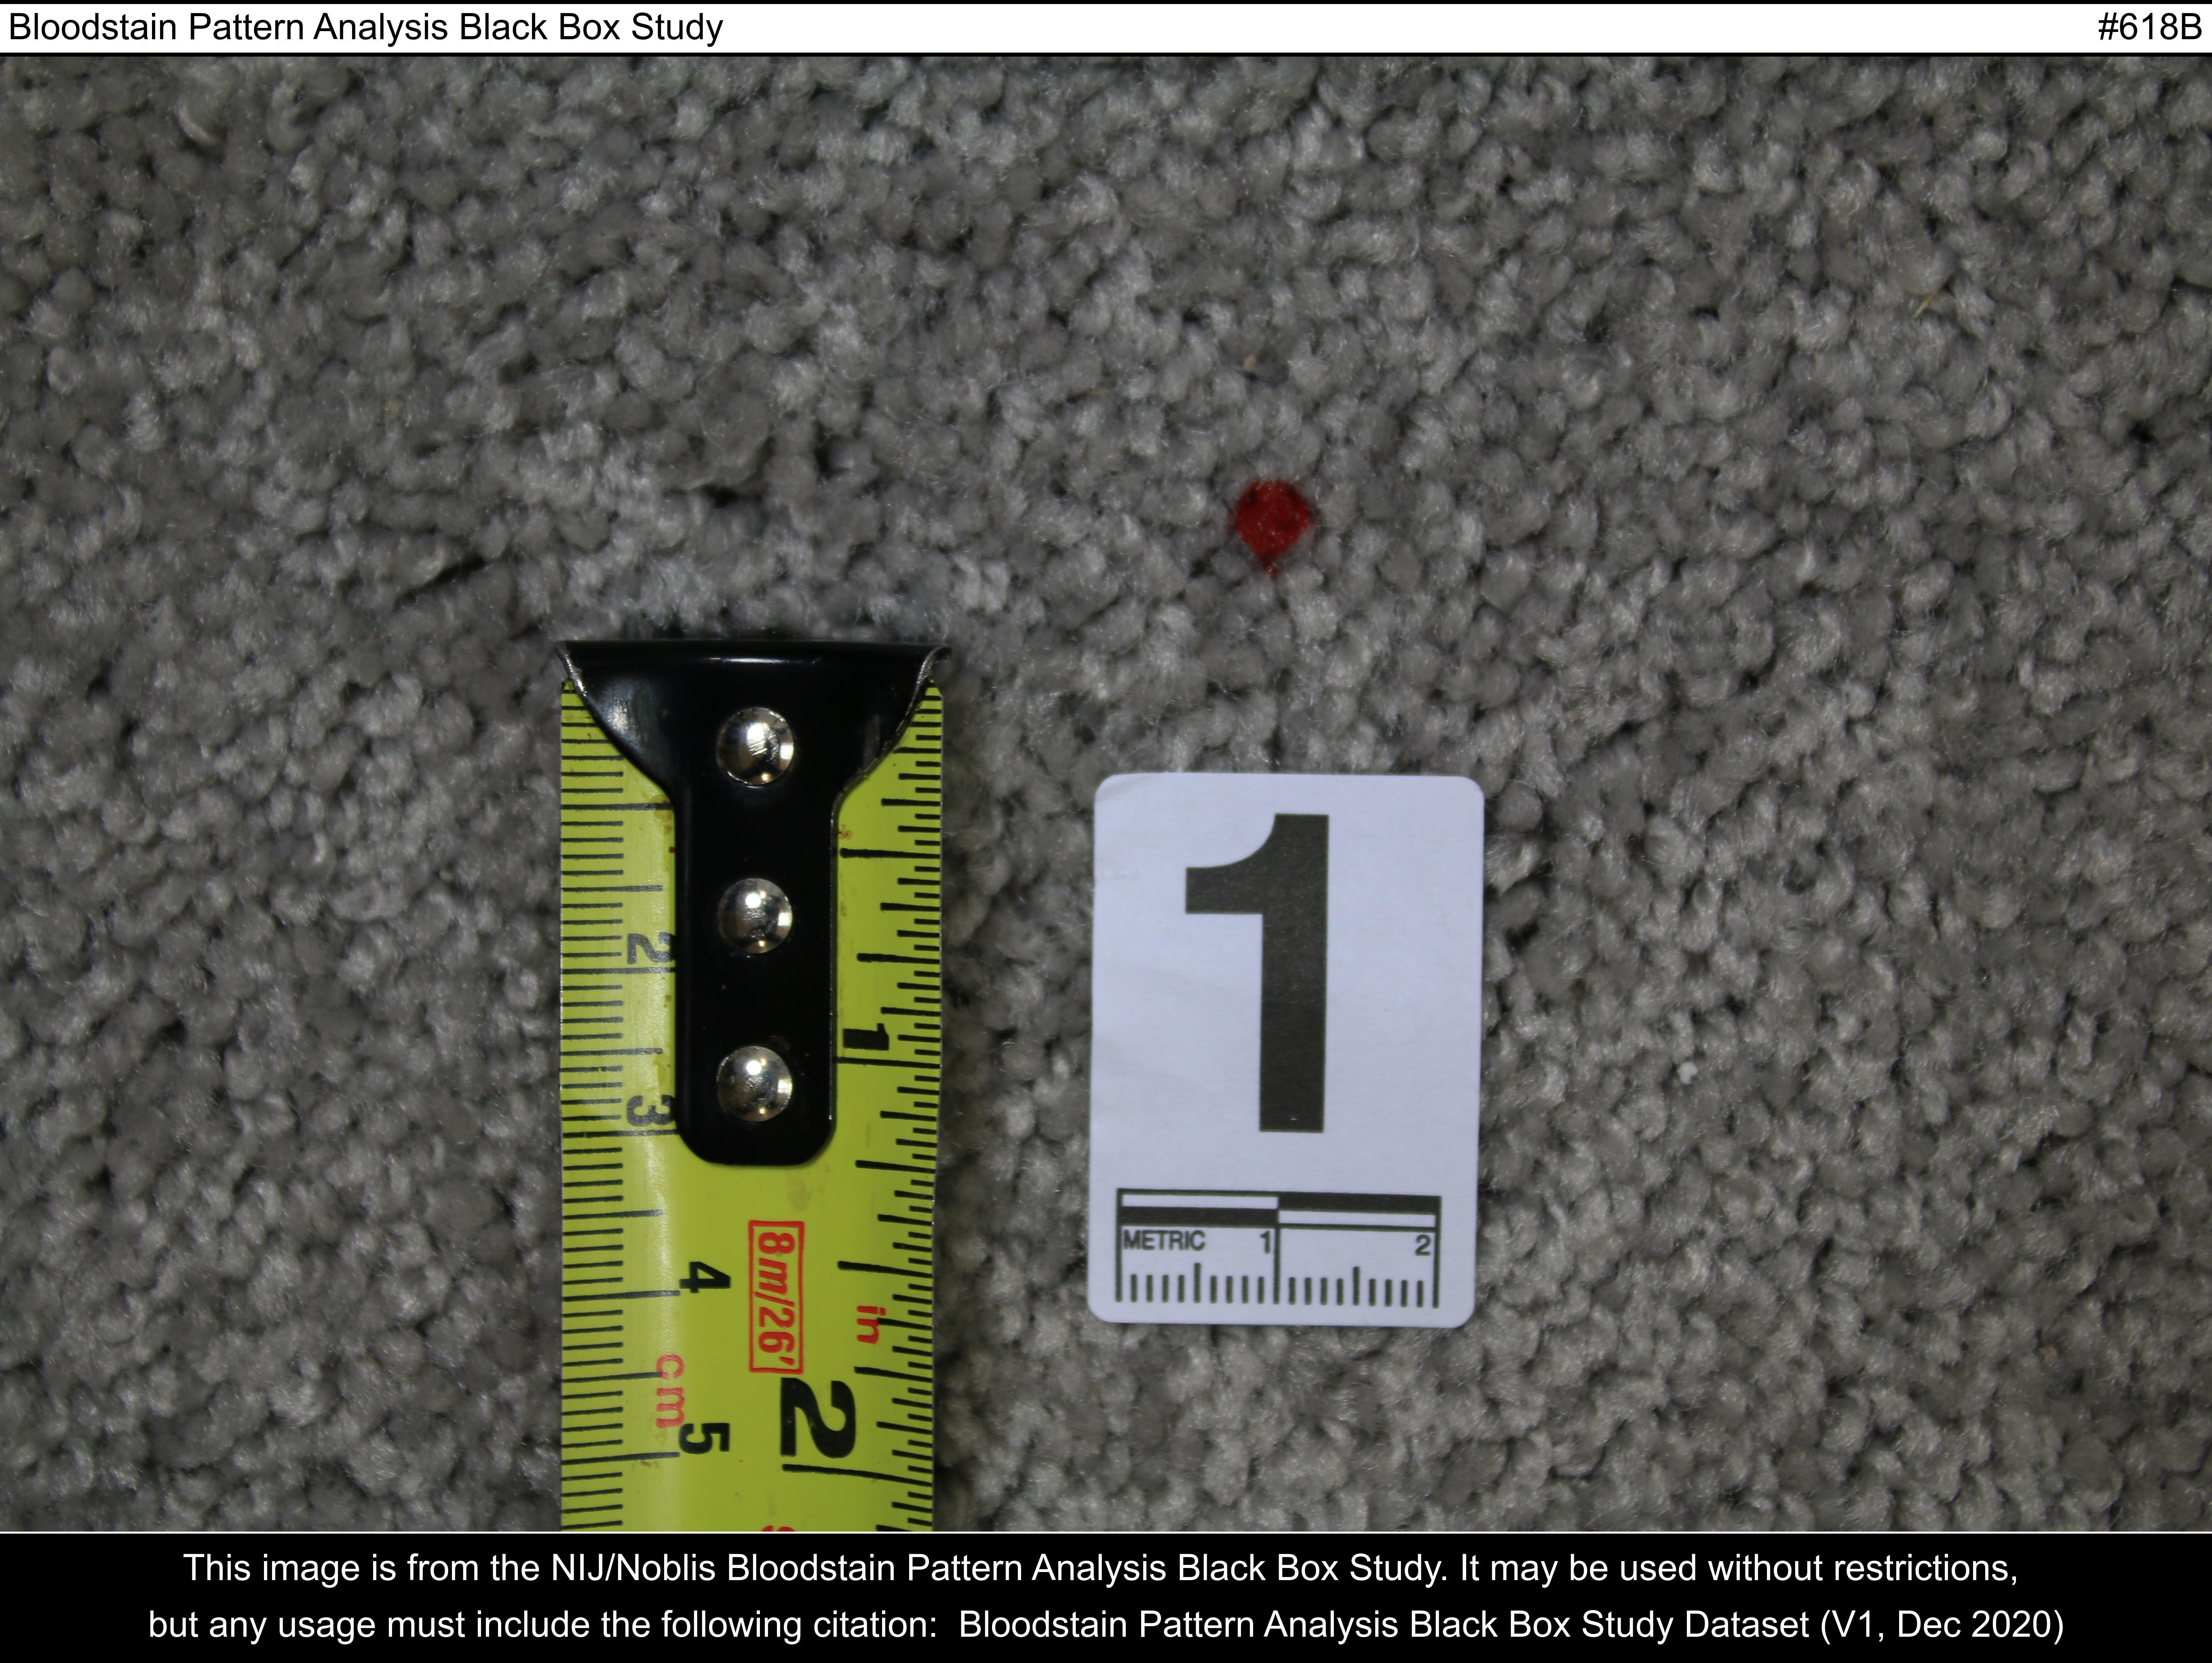Passive: (1205, 454, 1386, 587)
